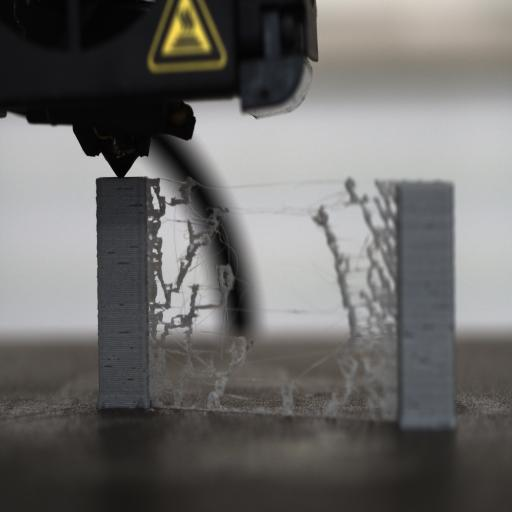stringing: (143, 173, 251, 403)
